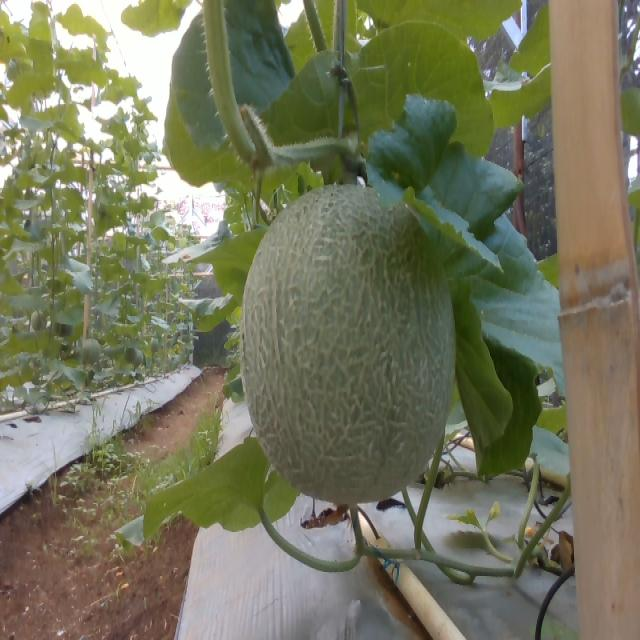melon: (242, 184, 457, 505)
